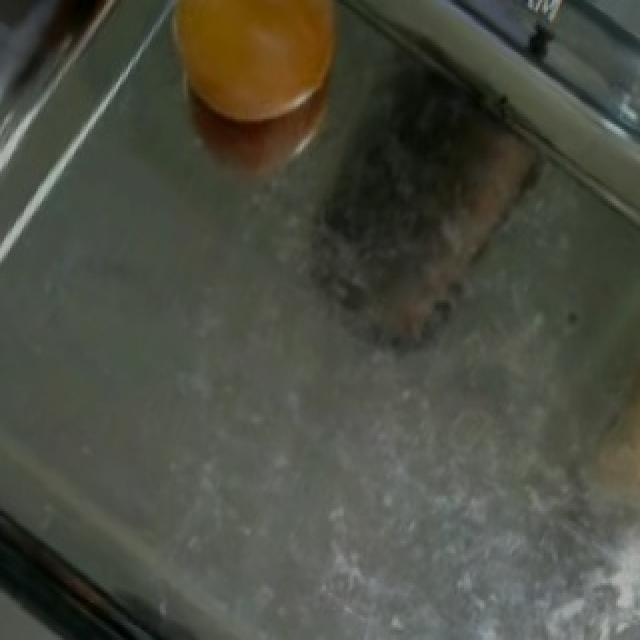Fruit: (142, 2, 364, 149)
